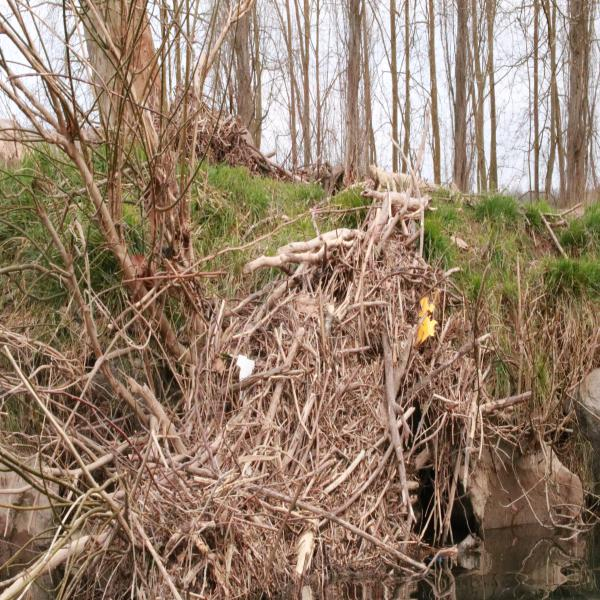others: (415, 291, 436, 345), (235, 353, 256, 380)
